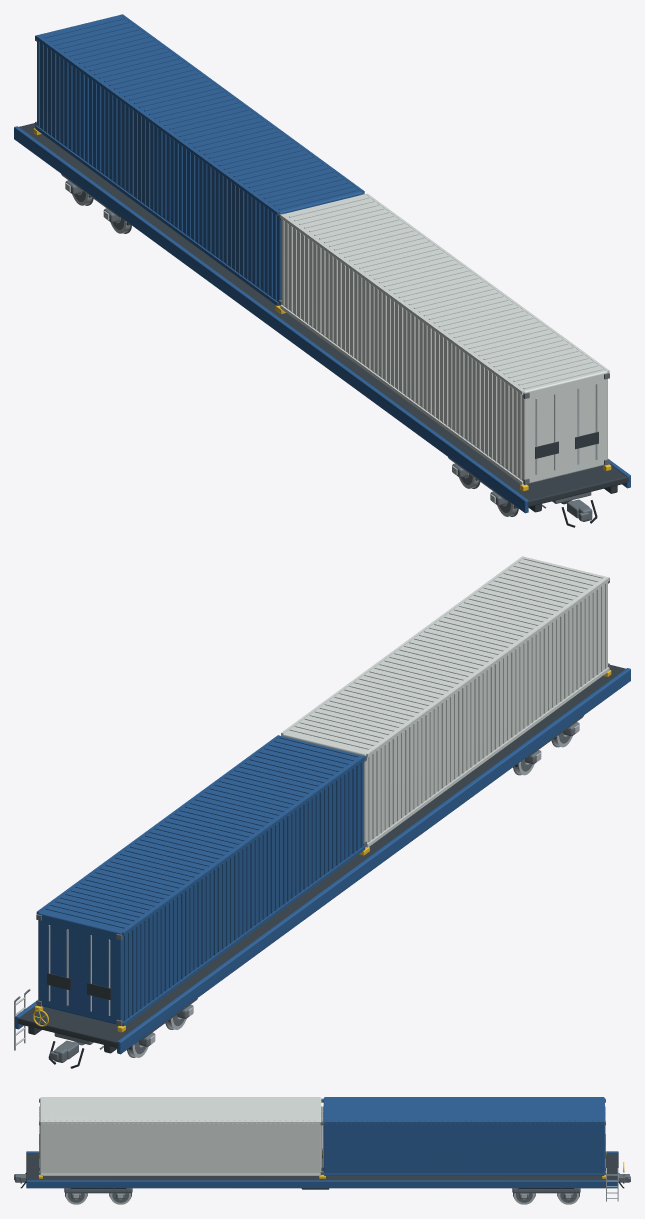
The model's file is wagon_container_platform.glb.
3 views of the same model, one above another, from view 1: azimuth 30°, elevation 25°; view 2: azimuth 150°, elevation 25°; view 3: azimuth 270°, elevation 25° (orthographic). The views are drawn at different scales.
Parts seen in each view (by area): view 1: cargo_container_0, cargo_container_1, platform_frame, deck; view 2: cargo_container_1, cargo_container_0, platform_frame, deck; view 3: cargo_container_1, cargo_container_0, platform_frame, deck, bogie_0_frame, bogie_1_frame, access_ladders.
Boxes of the visible parts, <box> form: cargo_container_0: <box>280,193,609,485</box>; cargo_container_1: <box>35,14,364,305</box>; platform_frame: <box>14,126,630,513</box>; deck: <box>19,123,628,506</box>; cargo_container_1: <box>36,735,365,1026</box>; cargo_container_0: <box>281,556,609,847</box>; platform_frame: <box>15,668,630,1054</box>; deck: <box>17,665,625,1047</box>; cargo_container_1: <box>322,1097,605,1175</box>; cargo_container_0: <box>39,1097,322,1175</box>; platform_frame: <box>26,1151,618,1188</box>; deck: <box>26,1153,618,1180</box>; bogie_0_frame: <box>64,1188,132,1198</box>; bogie_1_frame: <box>512,1188,580,1198</box>; access_ladders: <box>606,1168,618,1201</box>.
Size of the model in its own units: 3.11 by 4.19 by 26.72.
